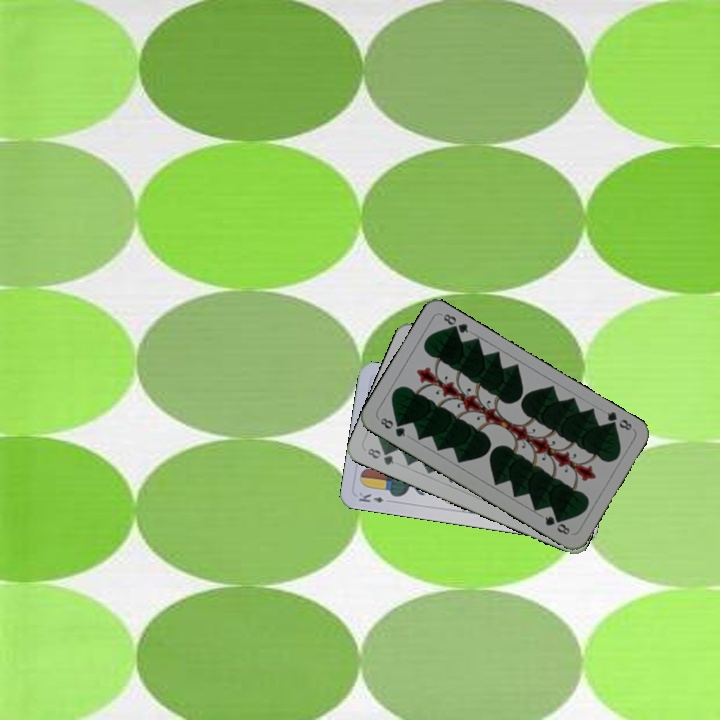EK: (355, 488, 386, 505)
G8: (374, 414, 408, 440), (603, 407, 635, 433), (363, 444, 397, 468)
